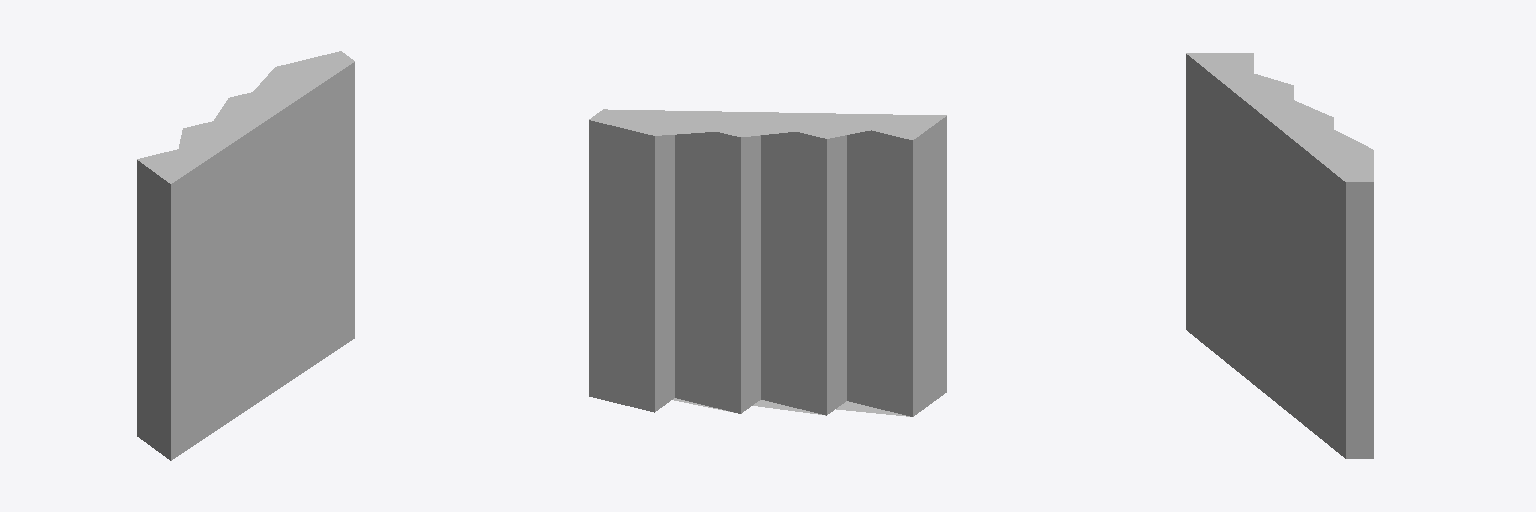
The model's file is Bac thang.obj.
3 views of the same model, side by side, from view 1: azimuth 30°, elevation 25°; view 2: azimuth 150°, elevation 25°; view 3: azimuth 270°, elevation 25° (orthographic).
Visible parts, largest first — view 1: Mesh1 Bacthang1 Model; view 2: Mesh1 Bacthang1 Model; view 3: Mesh1 Bacthang1 Model.
Part boxes in pixels (x1,y1,x2,y2): Mesh1 Bacthang1 Model: (137, 51, 354, 460); Mesh1 Bacthang1 Model: (589, 109, 946, 416); Mesh1 Bacthang1 Model: (1186, 53, 1373, 458).
Bounding box in the file's own units: 1200 × 1200 × 741.